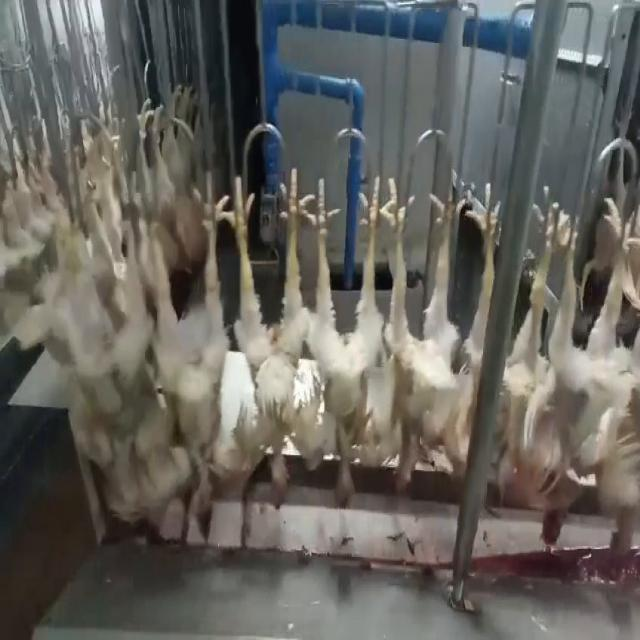chicken: (537, 215, 629, 553), (228, 169, 315, 511), (151, 170, 222, 540), (378, 167, 459, 491), (310, 161, 382, 514), (489, 198, 558, 524), (91, 183, 151, 525), (443, 179, 504, 481), (609, 181, 639, 564)
